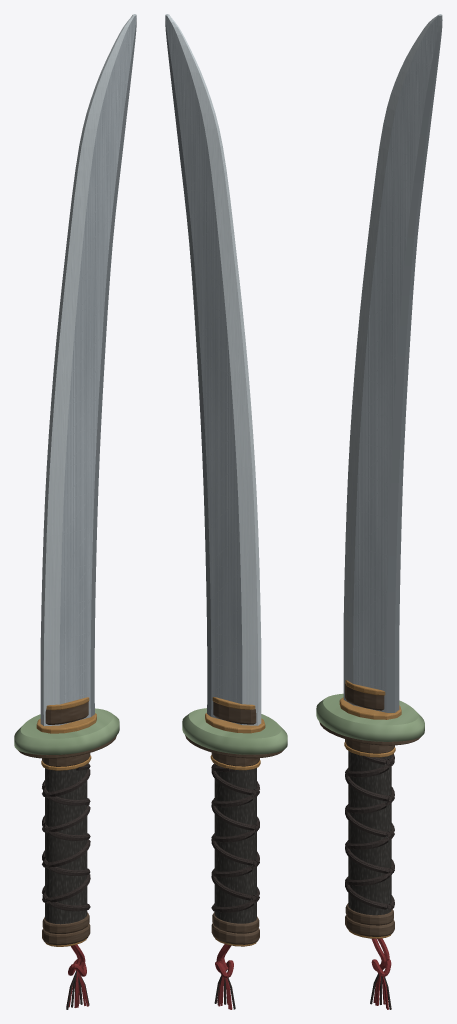
File: joseon-hwando-07.glb
3 views of the same model, side by side, from view 1: azimuth 30°, elevation 25°; view 2: azimuth 150°, elevation 25°; view 3: azimuth 330°, elevation 25° (orthographic). The views are drawn at different scales.
Visible parts, largest first — view 1: SW_JOSEON_HWANDO_MESH, TasselPivot_MESH; view 2: SW_JOSEON_HWANDO_MESH, TasselPivot_MESH; view 3: SW_JOSEON_HWANDO_MESH, TasselPivot_MESH.
Part boxes in pixels (bbox=[...]): SW_JOSEON_HWANDO_MESH: bbox=[14, 14, 136, 946]; TasselPivot_MESH: bbox=[66, 944, 89, 1009]; SW_JOSEON_HWANDO_MESH: bbox=[165, 14, 287, 946]; TasselPivot_MESH: bbox=[214, 944, 235, 1009]; SW_JOSEON_HWANDO_MESH: bbox=[316, 14, 442, 938]; TasselPivot_MESH: bbox=[370, 938, 391, 1009].
Size of the model in its own units: 0.1705 by 1.33 by 0.0939.
Materials: 10 (8 with a texture image).
